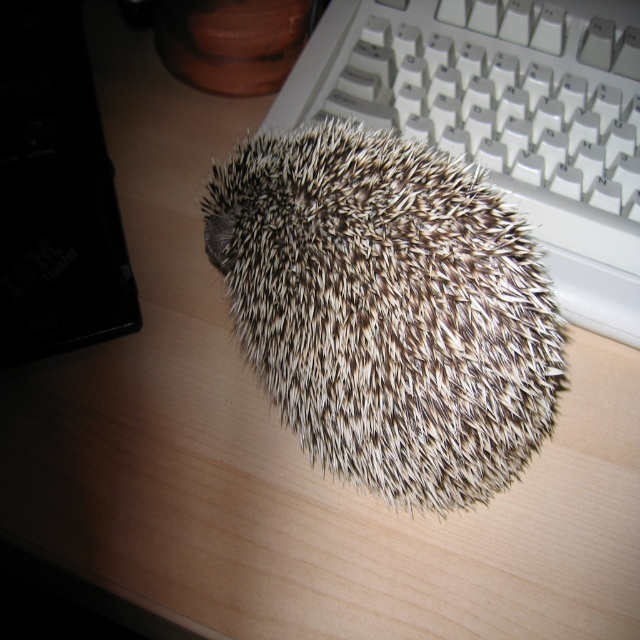Hedgehog: (189, 114, 569, 522)
